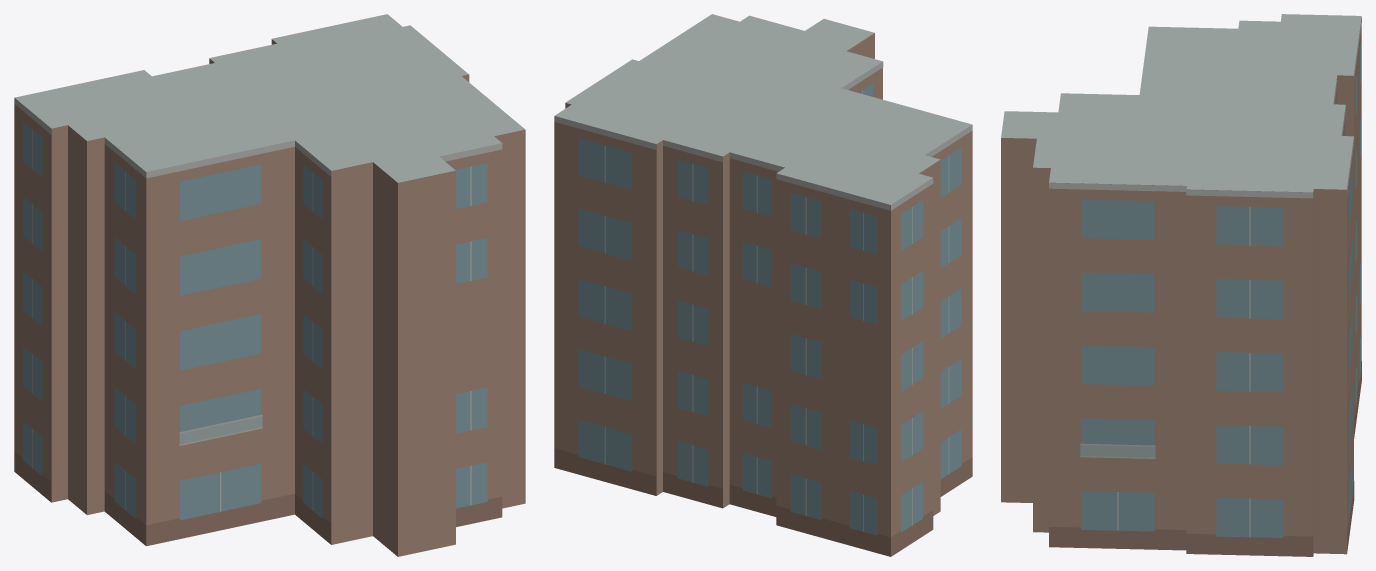
File: survey-upis-32938592.glb
The picture shows the model from 3 angles, left to right: view 1: azimuth 30°, elevation 25°; view 2: azimuth 150°, elevation 25°; view 3: azimuth 270°, elevation 25°; orthographic projection. The views are drawn at different scales.
Visible parts, largest first — view 1: survey-upis-32938592.tmp; view 2: survey-upis-32938592.tmp; view 3: survey-upis-32938592.tmp.
Boxes of the visible parts, <box> form: survey-upis-32938592.tmp: <box>14,14,525,556</box>; survey-upis-32938592.tmp: <box>554,14,972,556</box>; survey-upis-32938592.tmp: <box>1001,14,1361,556</box>.
Bounding box in the file's own units: 15.33 × 14.6 × 13.1.
